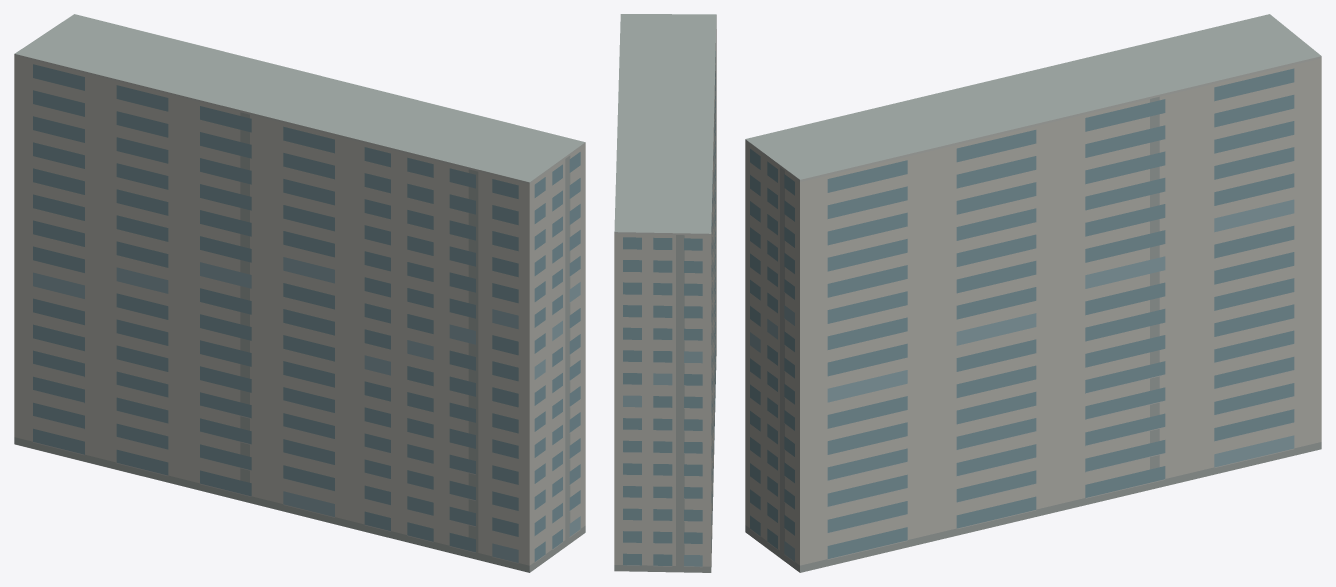
Rendered from residential-6bbd822a-aef8-46c5-859d-22ae22f90d4f.glb.
The picture shows the model from 3 angles, left to right: view 1: azimuth 30°, elevation 25°; view 2: azimuth 150°, elevation 25°; view 3: azimuth 270°, elevation 25°; orthographic projection. The views are drawn at different scales.
Parts seen in each view (by area): view 1: residential-6bbd822a-aef8-46c5-859d-22ae22f90d4f.tmp; view 2: residential-6bbd822a-aef8-46c5-859d-22ae22f90d4f.tmp; view 3: residential-6bbd822a-aef8-46c5-859d-22ae22f90d4f.tmp.
Boxes of the visible parts, x1,y1,x2,y2 form: residential-6bbd822a-aef8-46c5-859d-22ae22f90d4f.tmp: (14,14,585,572); residential-6bbd822a-aef8-46c5-859d-22ae22f90d4f.tmp: (614,14,716,572); residential-6bbd822a-aef8-46c5-859d-22ae22f90d4f.tmp: (745,14,1321,572).
Size of the model in its own units: 41.41 by 45.75 by 60.82.
